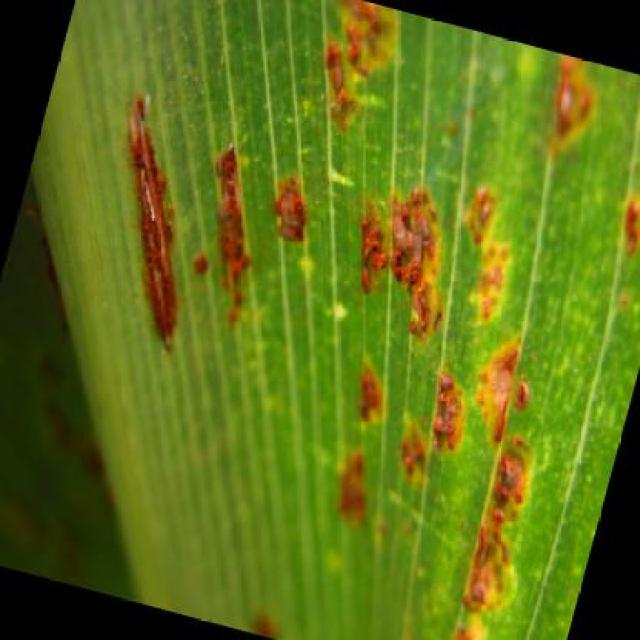Corn_Rust: (92, 60, 572, 592)
